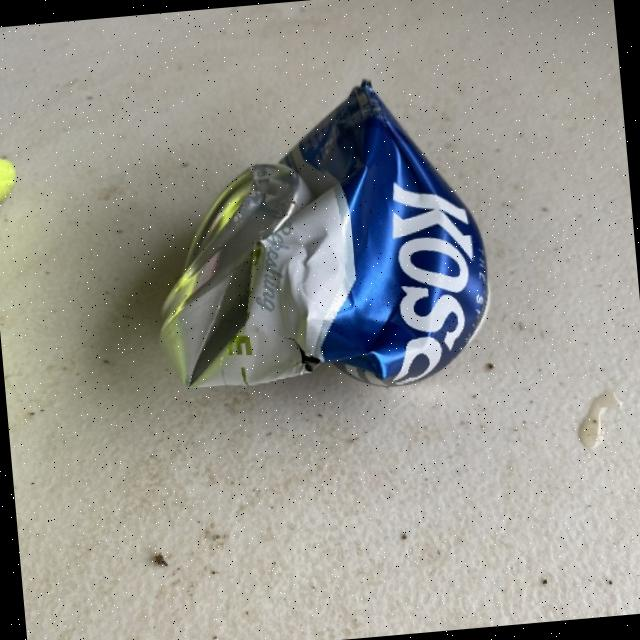metal: (136, 68, 498, 406)
